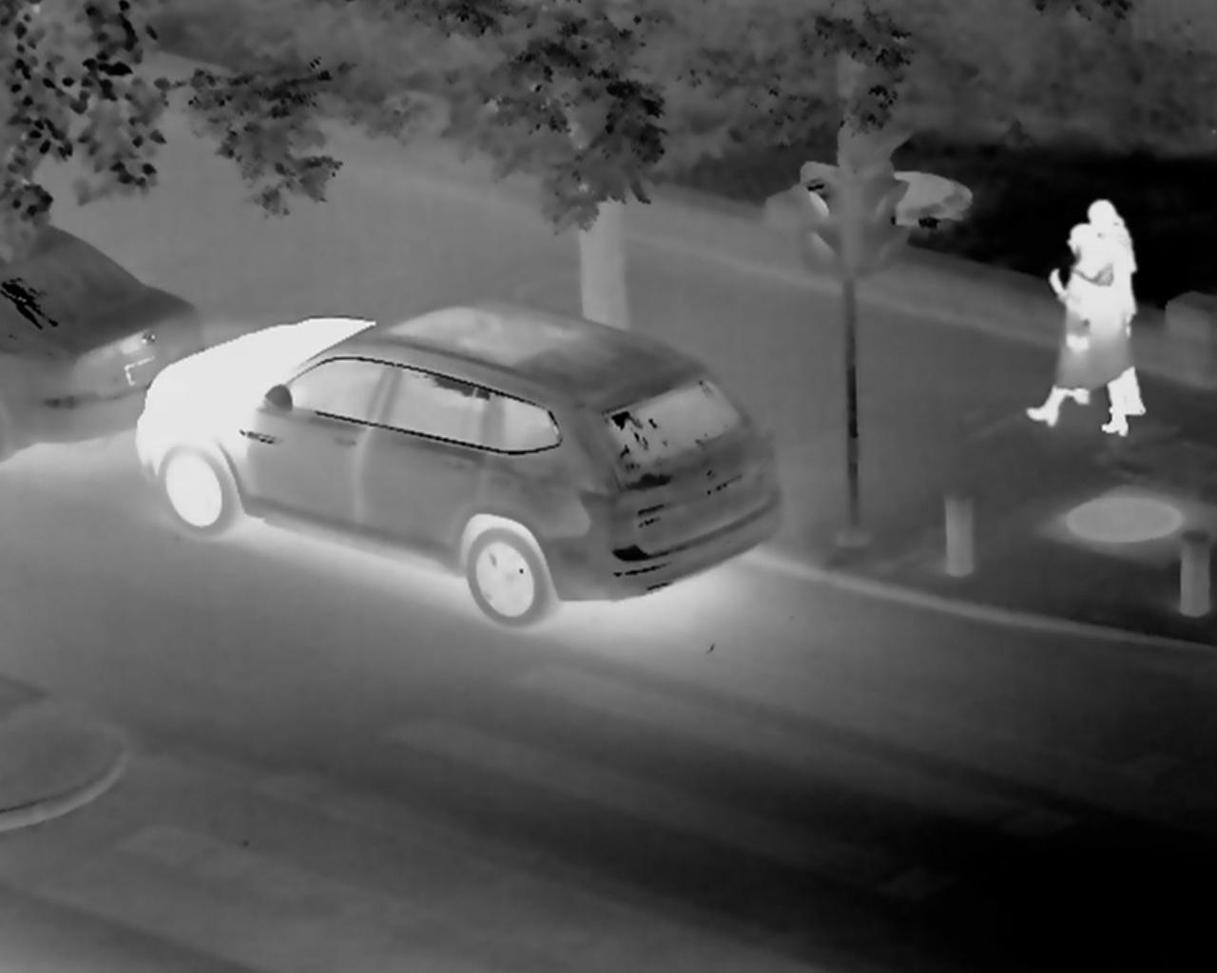person: (1045, 200, 1137, 426)
